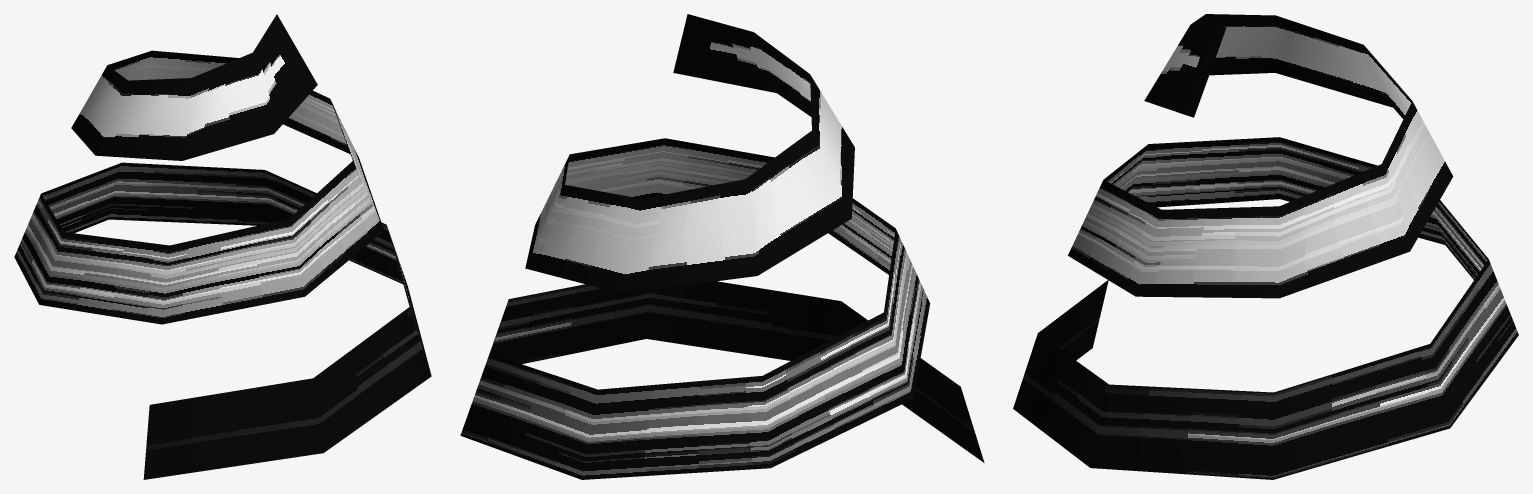
The model's file is Drill_Effect_01.FBX.
The picture shows the model from 3 angles, left to right: view 1: azimuth 30°, elevation 25°; view 2: azimuth 150°, elevation 25°; view 3: azimuth 270°, elevation 25°; orthographic projection. The views are drawn at different scales.
Parts seen in each view (by area): view 1: Drill; view 2: Drill; view 3: Drill.
Part boxes in pixels (x1,y1,x2,y2): Drill: (14,14,431,479); Drill: (460,14,984,479); Drill: (1013,14,1518,479).
Size of the model in its own units: 95.27 by 93.58 by 100.
